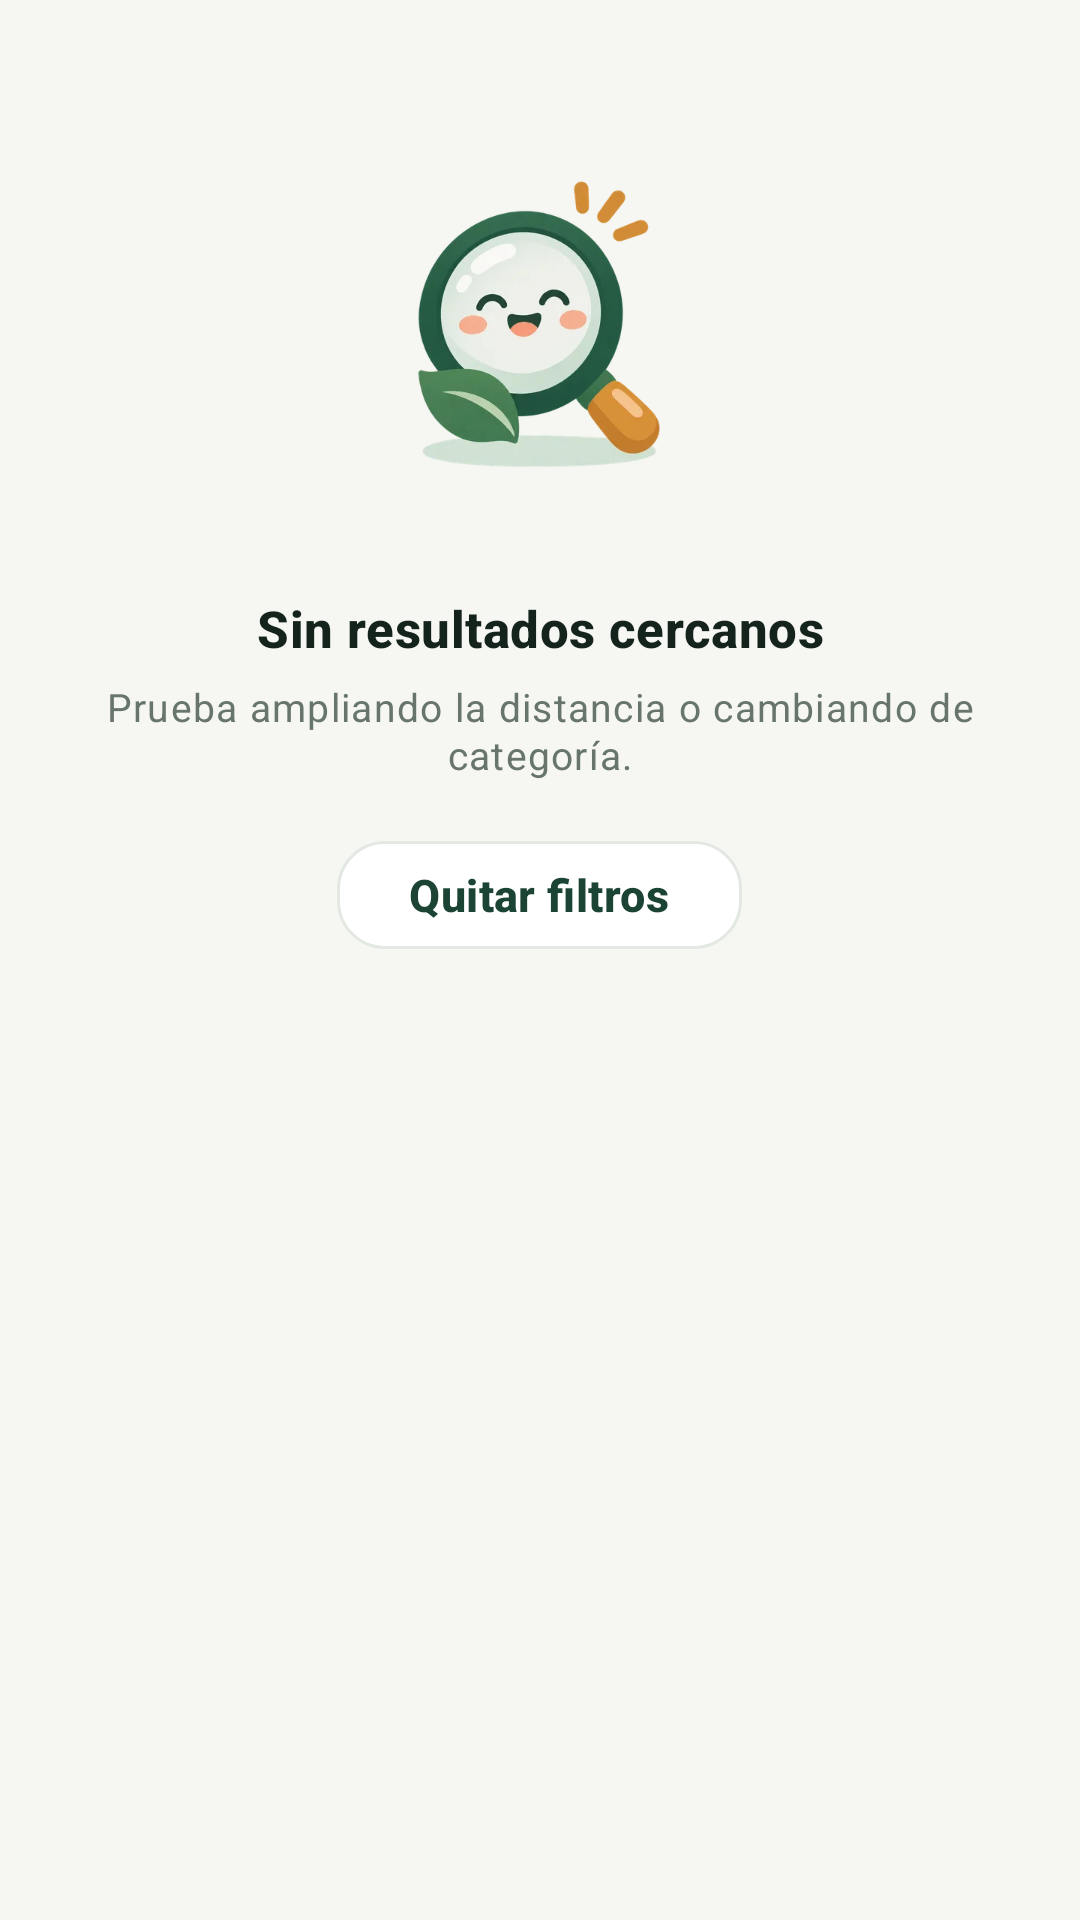

Where icons sit on this 1080w x 1920h app screen, as [x1=x1, y1=y1, x2=x2, y2=y2]:
empty busqueda: [x1=418, y1=181, x2=660, y2=466]
